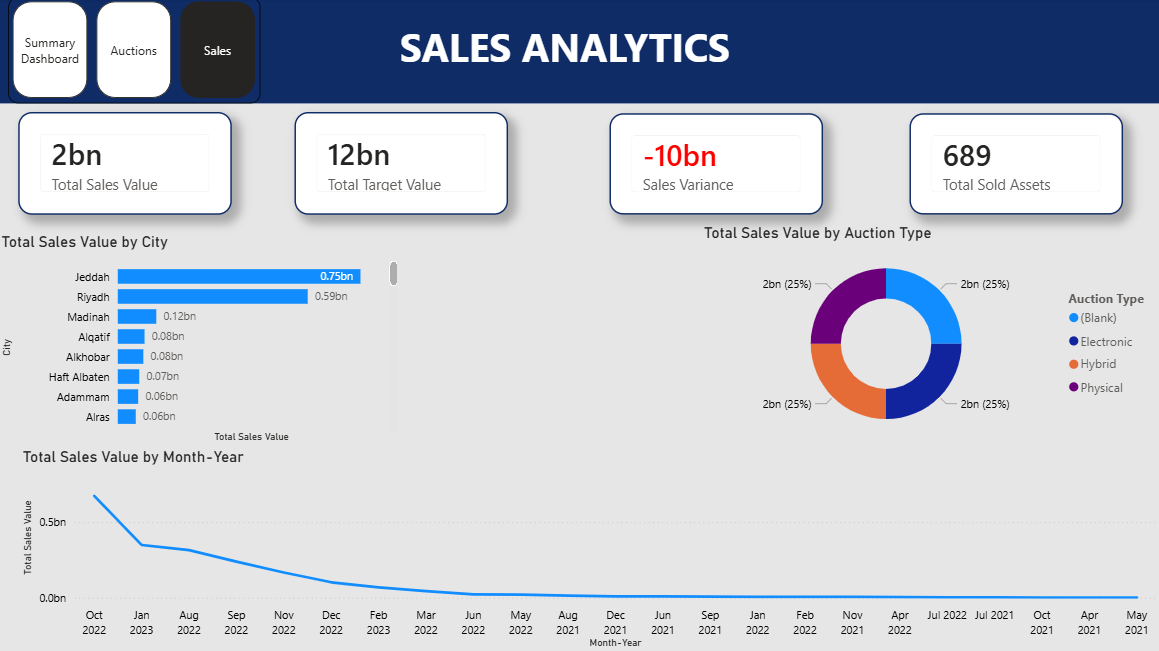

This screenshot's page, from the dashboard's own definition file:
{"tool":"powerbi","page":{"name":"Sales","canvas":[1280,720],"ordinal":2},"visuals":[{"type":"textbox","box":[0,0,1280.3,116.6],"z":0},{"type":"textbox","box":[291.1,20.3,664.8,73.9],"z":1000},{"type":"cardVisual","fields":{"Data":["Key Measures.Total Sales Value"]},"box":[23.3,126.2,234.6,112.5],"z":2000},{"type":"cardVisual","fields":{"Data":["Key Measures.Sales Variance"]},"box":[672.4,127.6,234.6,111.1],"z":3000},{"type":"cardVisual","fields":{"Data":["Key Measures.Total Sold Assets"]},"box":[1001.7,127.6,234.6,111.1],"z":4000},{"type":"cardVisual","fields":{"Data":["Key Measures.Total Target Value"]},"box":[326.6,126.2,234.6,112.5],"z":5000},{"type":"clusteredBarChart","fields":{"Category":["Assets.City"],"Y":["Key Measures.Total Sales Value"]},"box":[0,258,444.6,236],"z":6000},{"type":"donutChart","fields":{"Category":["Project and Auction.Auction Type"],"Y":["Key Measures.Total Sales Value"]},"box":[771.2,248.4,509.1,245.6],"z":7000},{"type":"lineChart","fields":{"Category":["Calendar.Month-Year"],"Y":["Key Measures.Total Sales Value"]},"box":[23.3,494,1257,226.4],"z":8000},{"type":"pageNavigator","box":[12.3,0,277.2,116.6],"z":9000}]}

Visuals, with their boxes in screenshot pixels (x1, y1, x2, y2), scaled from the page's 1280x720 canvas onto the 1159x651 screenshot:
textbox: 0:0:1158:105
textbox: 264:18:866:85
cardVisual - Key Measures.Total Sales Value: 21:114:234:216
cardVisual - Key Measures.Sales Variance: 609:115:821:216
cardVisual - Key Measures.Total Sold Assets: 907:115:1119:216
cardVisual - Key Measures.Total Target Value: 296:114:508:216
clusteredBarChart - Assets.City x Key Measures.Total Sales Value: 0:233:403:447
donutChart - Project and Auction.Auction Type x Key Measures.Total Sales Value: 698:225:1158:447
lineChart - Calendar.Month-Year x Key Measures.Total Sales Value: 21:447:1158:650
pageNavigator: 11:0:262:105
